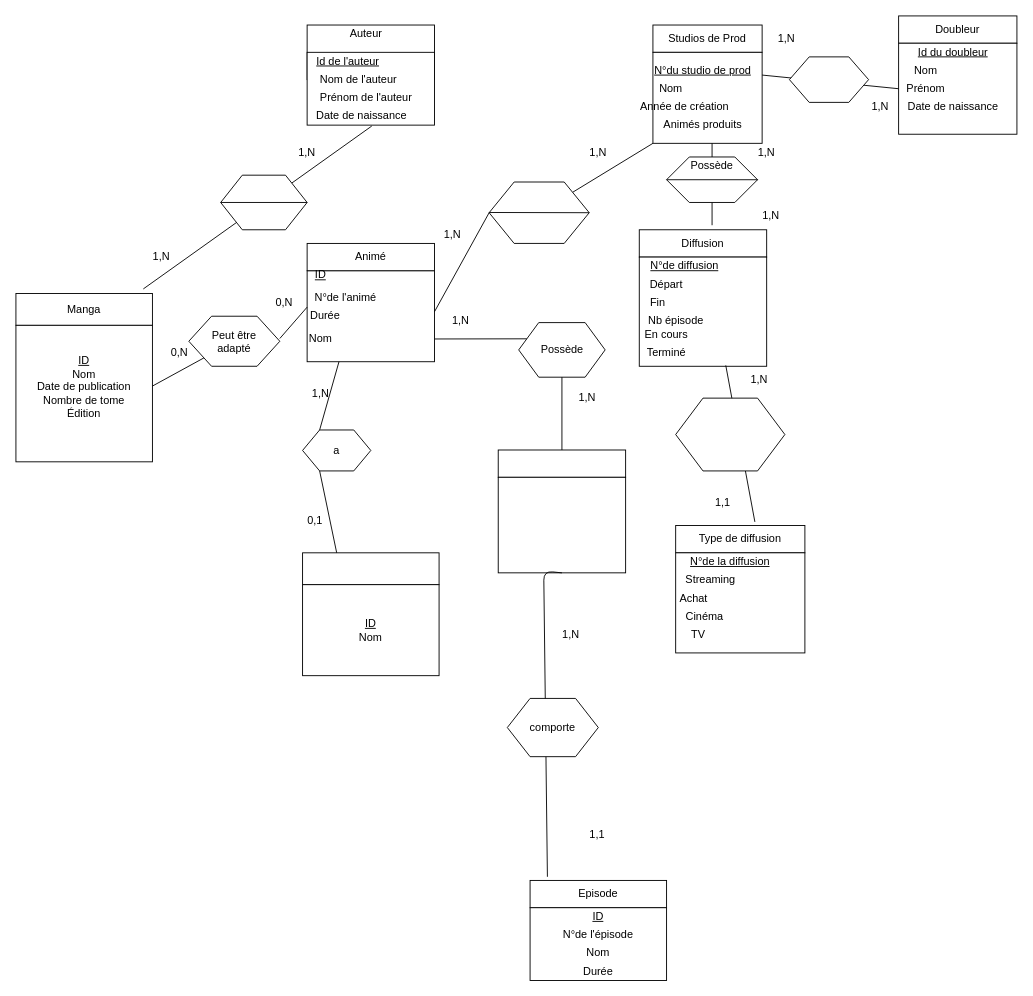
Image size: 1033x996. Some labels were removed from this diagram. Each missing label, with the centre of its shape:
"Catégories" goes at point (370, 568).
"Crée" goes at point (263, 202).
"ID Nombre de saison Durée" goes at point (561, 524).
"Peut avoir" goes at point (730, 434).
"Produit" goes at point (538, 212).
"Saison" goes at point (561, 463).
"travaille avec" goes at point (829, 79).
